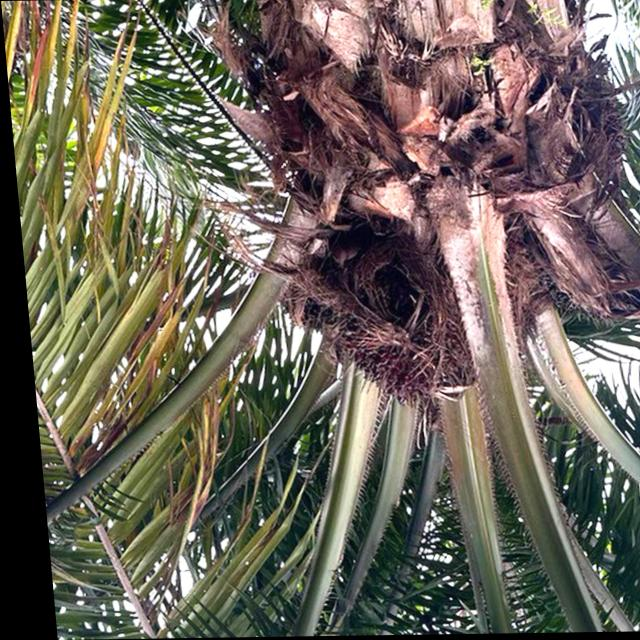ripe: (318, 303, 470, 421)
